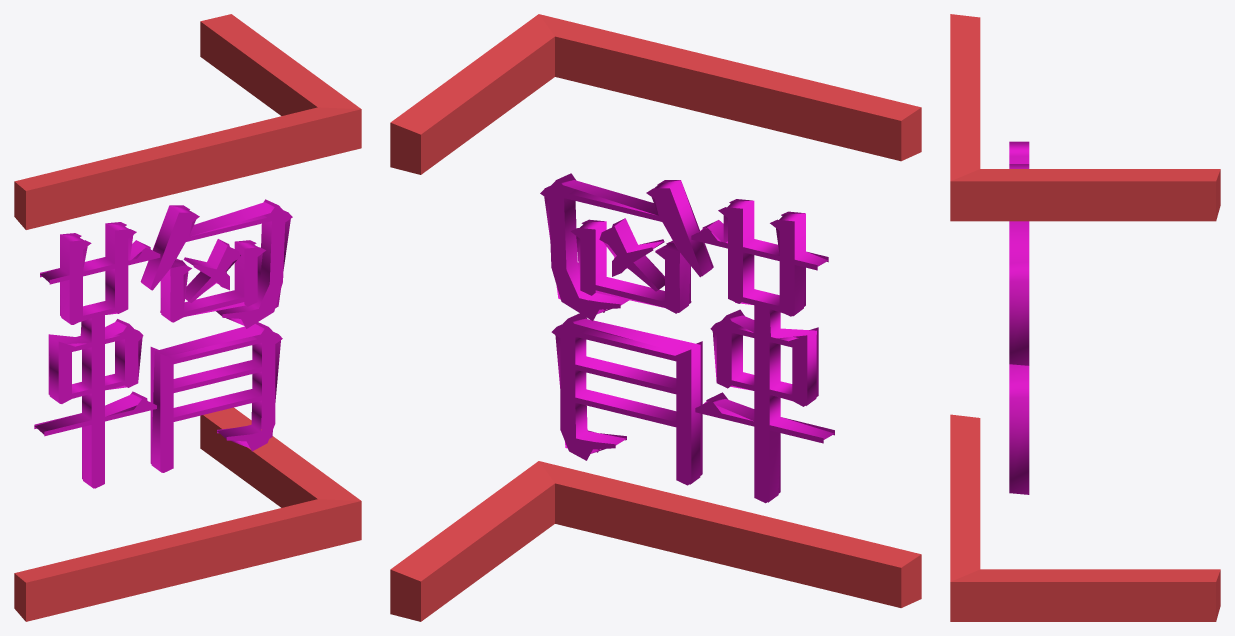
Rendered from CityJapan.fbx.
The picture shows the model from 3 angles, left to right: view 1: azimuth 30°, elevation 25°; view 2: azimuth 150°, elevation 25°; view 3: azimuth 270°, elevation 25°; orthographic projection. The views are drawn at different scales.
Visible parts, largest first — view 1: Text.021, Plane.024, Plane.025; view 2: Text.021, Plane.024, Plane.025; view 3: Plane.024, Plane.025, Text.021.
Boxes of the visible parts, <box> form: Text.021: <box>34,199,292,488</box>; Plane.024: <box>14,14,361,229</box>; Plane.025: <box>14,407,361,621</box>; Text.021: <box>540,173,834,503</box>; Plane.024: <box>390,14,921,174</box>; Plane.025: <box>390,461,921,621</box>; Plane.024: <box>950,14,1220,221</box>; Plane.025: <box>950,414,1220,621</box>; Text.021: <box>1009,141,1029,494</box>.
Size of the model in its own units: 8.97 by 11 by 6.12.
